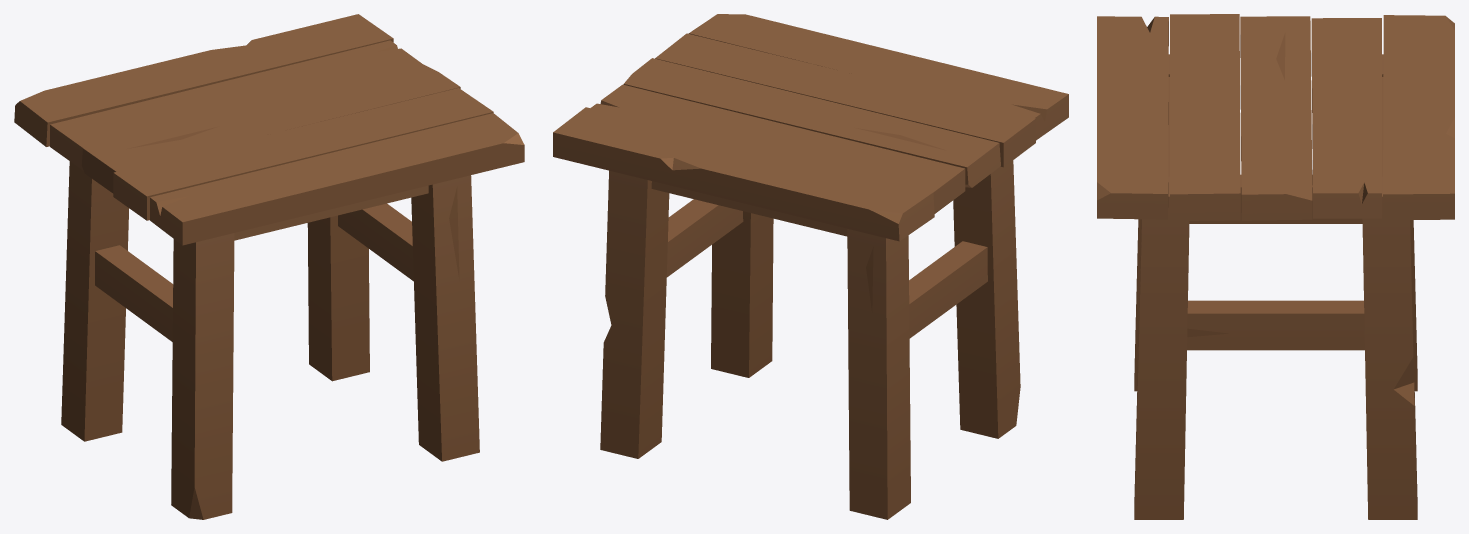
The model's file is SideTableSquare.fbx.
3 views of the same model, side by side, from view 1: azimuth 30°, elevation 25°; view 2: azimuth 150°, elevation 25°; view 3: azimuth 270°, elevation 25° (orthographic). The views are drawn at different scales.
Parts seen in each view (by area): view 1: SideTableSquare; view 2: SideTableSquare; view 3: SideTableSquare.
Boxes of the visible parts, bbox=[...] form: SideTableSquare: bbox=[14, 14, 524, 519]; SideTableSquare: bbox=[553, 14, 1068, 519]; SideTableSquare: bbox=[1097, 14, 1454, 519].
Size of the model in its own units: 77.55 by 68.32 by 64.91.
